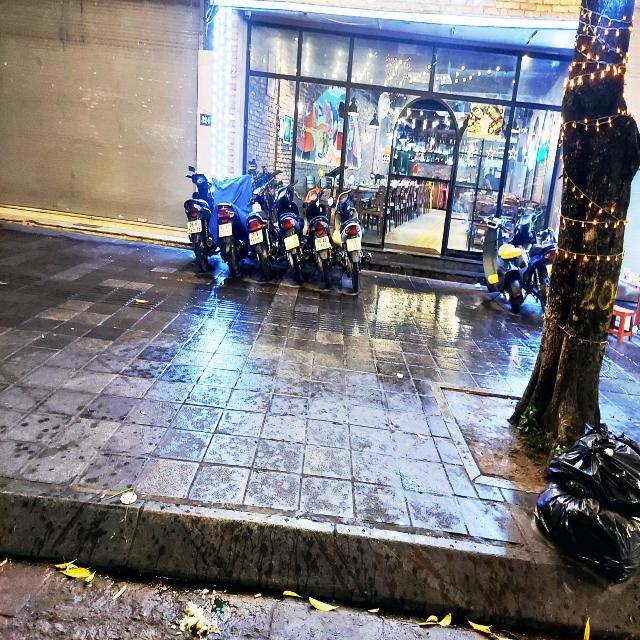license_plate: (315, 236, 331, 252), (250, 230, 265, 246), (188, 220, 203, 235), (219, 223, 233, 238)
